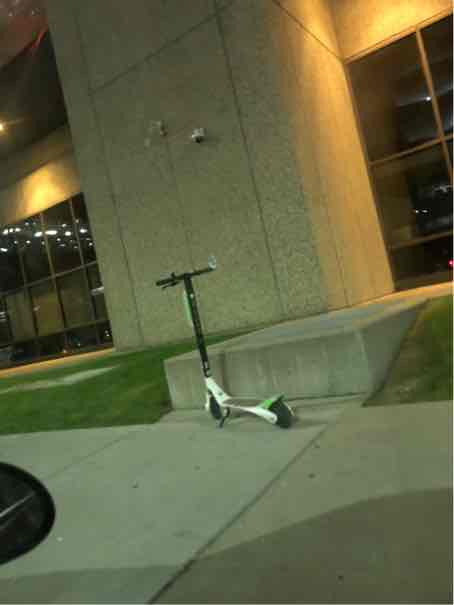scooter: (151, 260, 289, 432)
